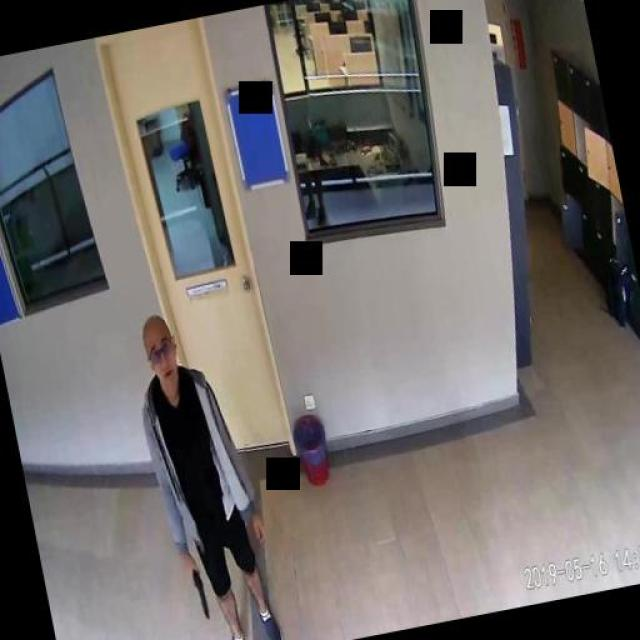gun: (186, 561, 209, 619)
